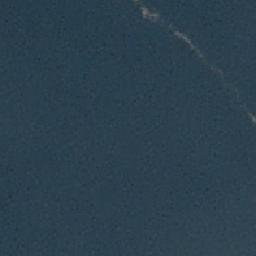debris: (137, 2, 161, 21), (245, 109, 256, 127), (188, 41, 201, 55), (171, 27, 185, 39)
